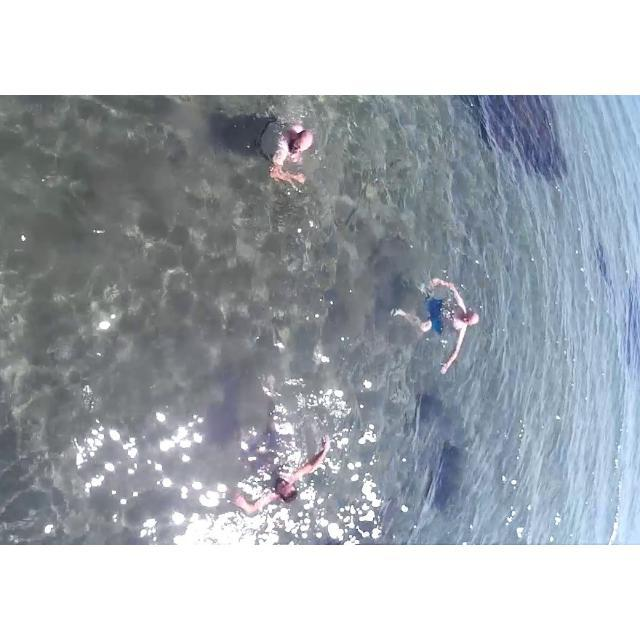human: (235, 399, 329, 511), (403, 253, 474, 381), (256, 96, 325, 198)
